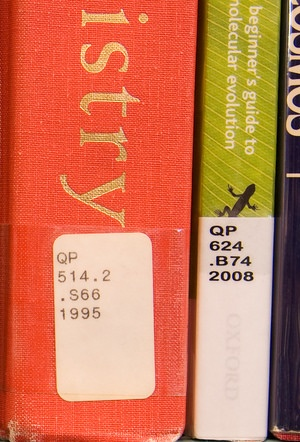call_number: (48, 230, 159, 401), (198, 215, 271, 442)
